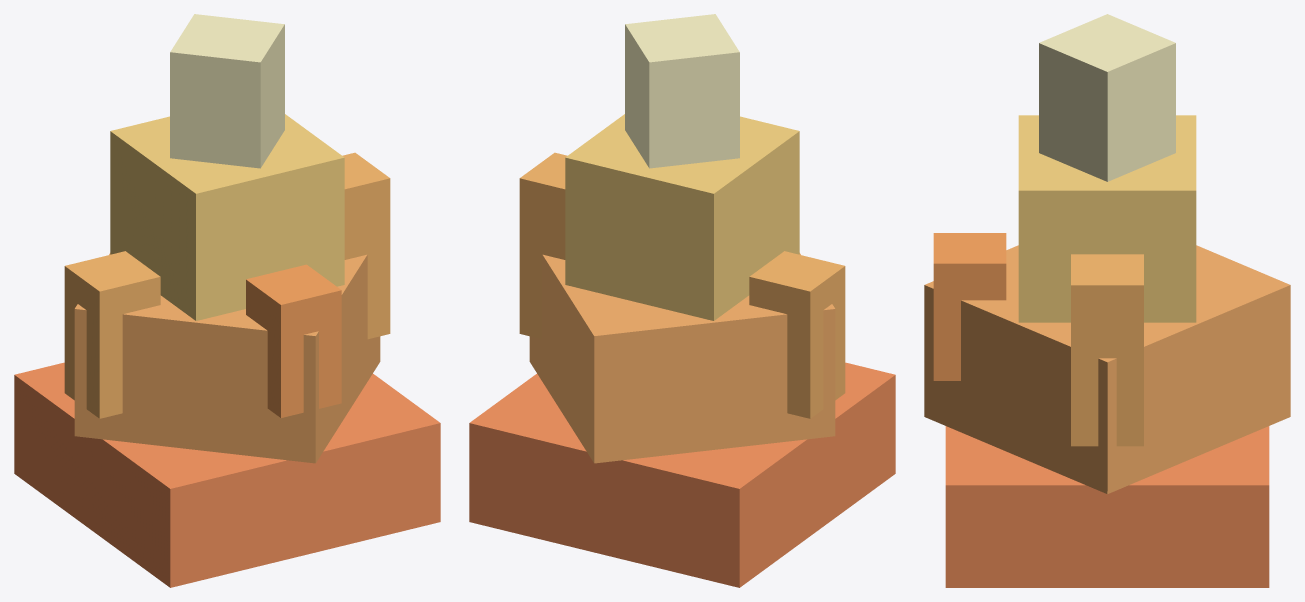
File: FireBoost.fbx
The picture shows the model from 3 angles, left to right: view 1: azimuth 30°, elevation 25°; view 2: azimuth 150°, elevation 25°; view 3: azimuth 270°, elevation 25°; orthographic projection. The views are drawn at different scales.
Visible parts, largest first — view 1: Flame_Base, Flame_Mid, Flame_Low, Flame_Top, Flame_Lick.002, Flame_Lick.001, Flame_Lick; view 2: Flame_Base, Flame_Low, Flame_Mid, Flame_Top, Flame_Lick.001, Flame_Lick; view 3: Flame_Low, Flame_Base, Flame_Mid, Flame_Top, Flame_Lick, Flame_Lick.002.
Boxes of the visible parts, x1,y1,x2,y2 form: Flame_Base: (14,362,440,587); Flame_Mid: (110,114,344,320); Flame_Low: (74,253,380,463); Flame_Top: (170,14,284,168); Flame_Lick.002: (246,264,341,417); Flame_Lick.001: (64,251,160,418); Flame_Lick: (342,152,390,339); Flame_Base: (469,362,895,587); Flame_Low: (529,253,835,463); Flame_Mid: (565,114,799,320); Flame_Top: (625,14,739,168); Flame_Lick.001: (749,251,845,418); Flame_Lick: (519,152,567,339); Flame_Low: (924,245,1290,494); Flame_Base: (945,426,1269,587); Flame_Mid: (1018,115,1196,322); Flame_Top: (1039,14,1175,181); Flame_Lick: (1071,254,1143,446); Flame_Lick.002: (933,233,1006,380).
Bounding box in the file's own units: 63.36 × 91 × 63.36.
